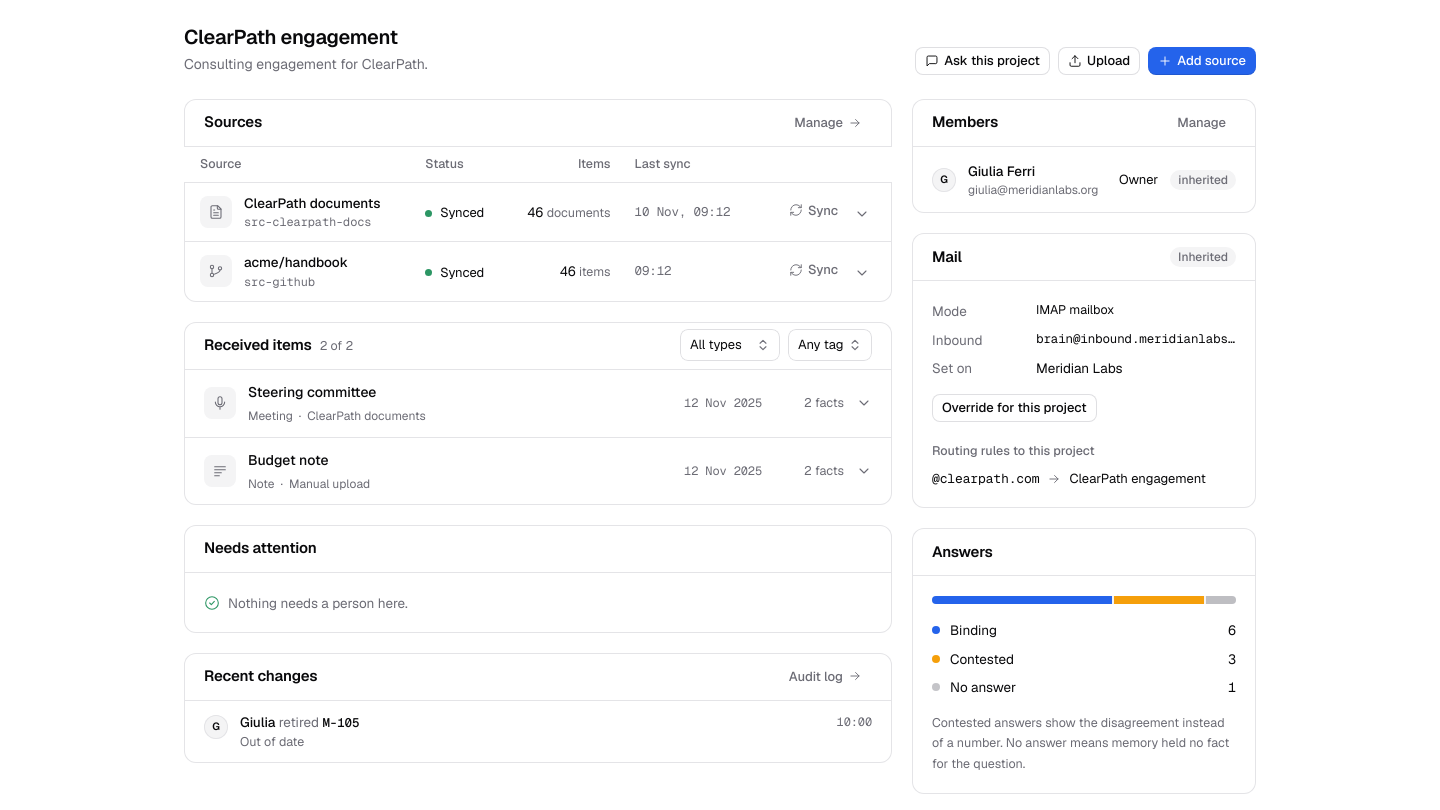
Test: Project › upload and add source › opens the upload dialog for the project, and closes it
Check: the heading "ClearPath engagement" is shown, box [184,24,428,50]
Check: the text "src-clearpath-docs" is shown, box [244,213,380,231]
Click the button "Upload" at (1099, 61), box [1058,47,1140,75]
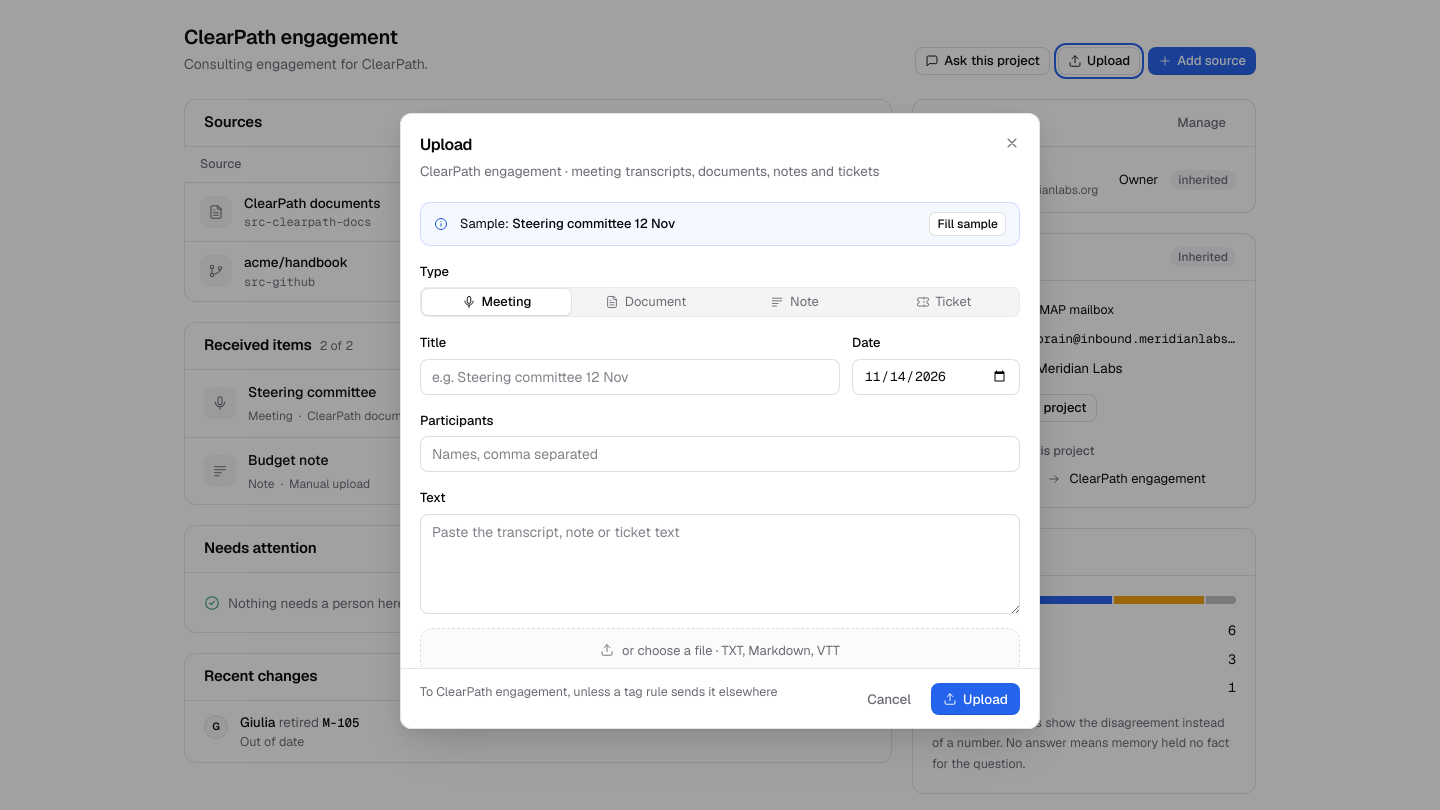
Check: the heading "Upload" is shown, box [420,134,472,155]
Click the button named "Close" at (1012, 143), box [998,129,1026,157]
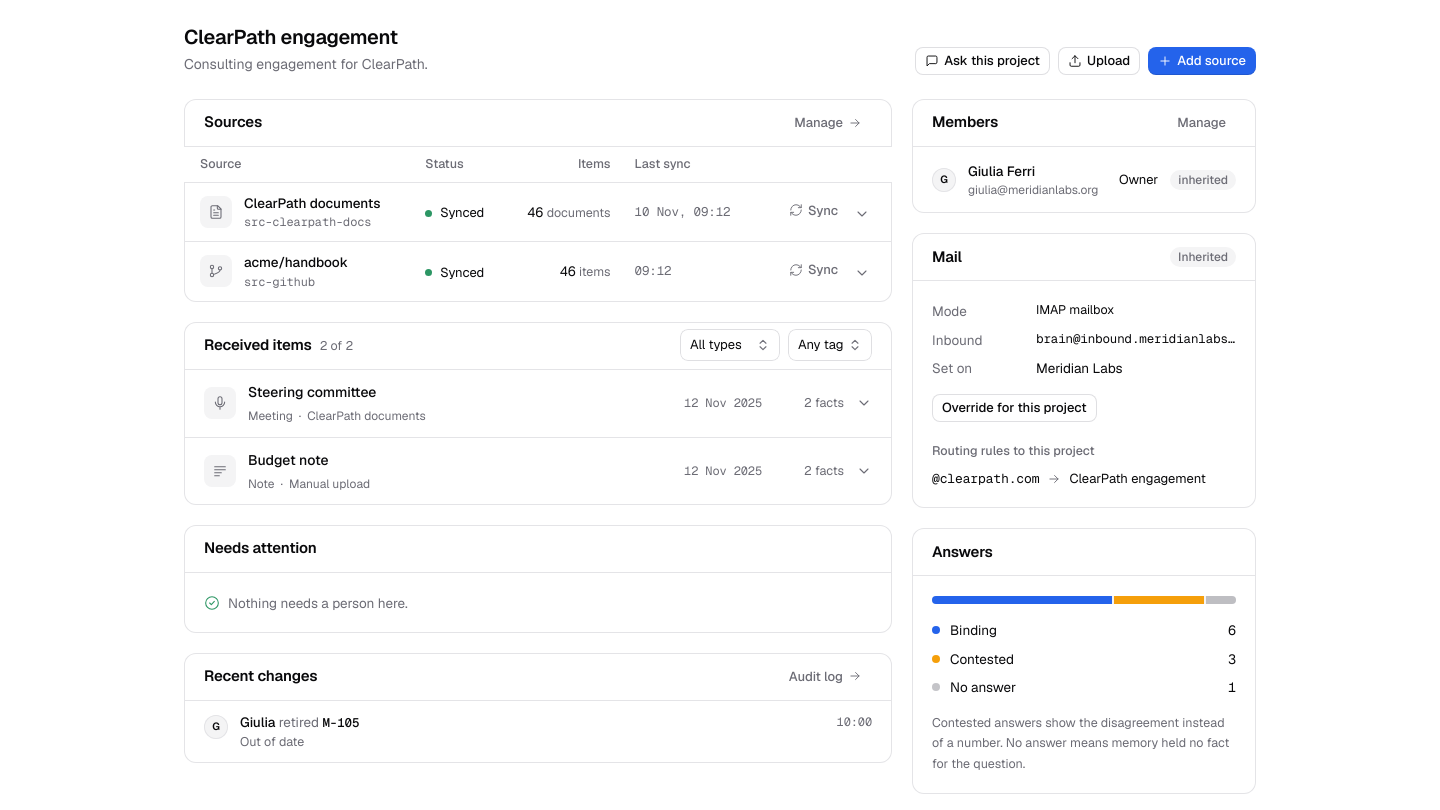
Check: the dialog is gone
